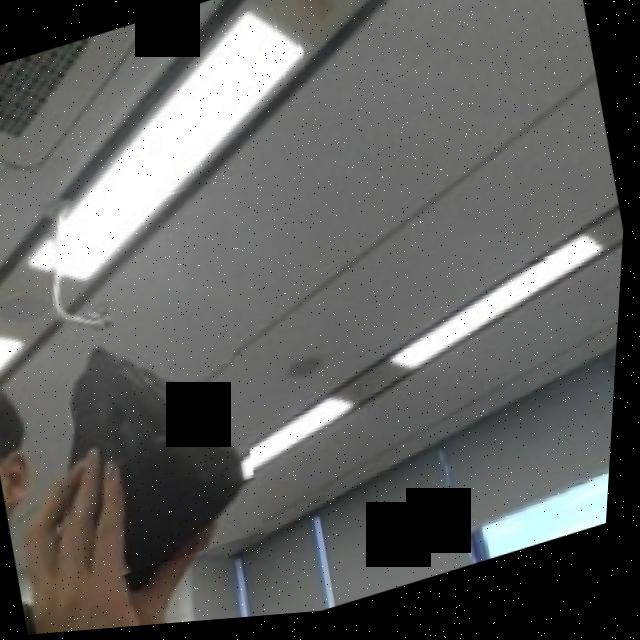shoe: (30, 306, 281, 594)
